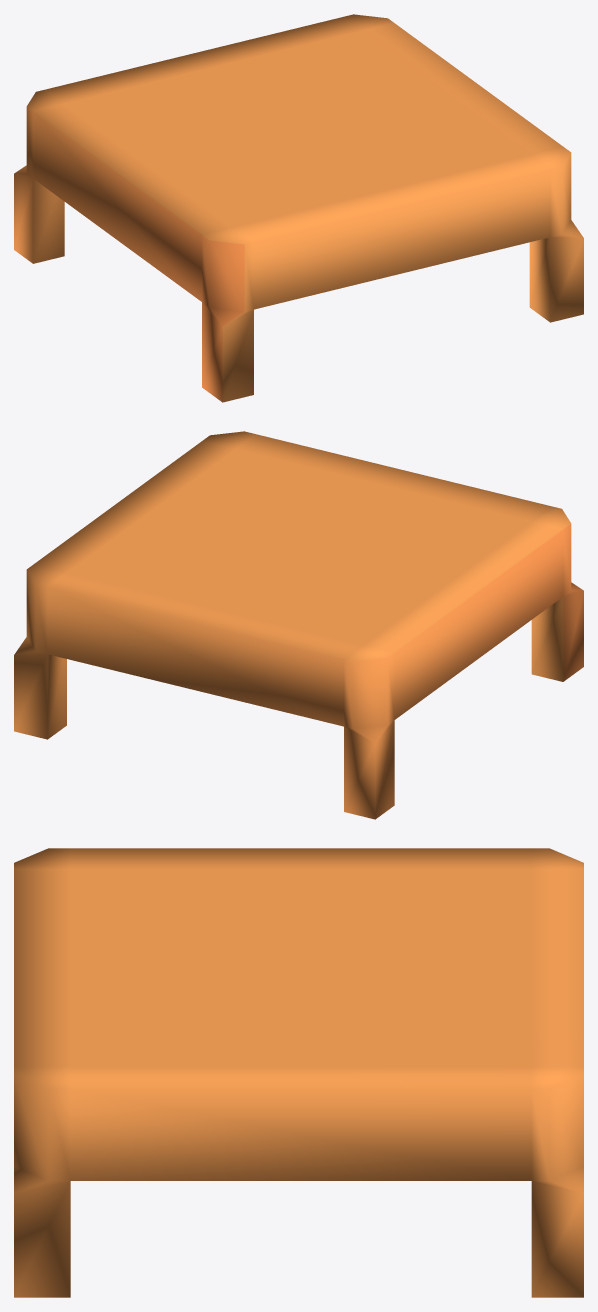
Rendered from Mesinha.fbx.
3 renders of one model, top to bottom at view 1: azimuth 30°, elevation 25°; view 2: azimuth 150°, elevation 25°; view 3: azimuth 270°, elevation 25°, orthographic. The views are drawn at different scales.
Visible parts, largest first — view 1: Mesinha; view 2: Mesinha; view 3: Mesinha.
Boxes of the visible parts, box(x1,y1,x2,y2) form: Mesinha: box(14, 14, 583, 402); Mesinha: box(14, 431, 583, 819); Mesinha: box(14, 848, 583, 1297).
Bounding box in the file's own units: 89.97 × 36.33 × 89.97.
Materials: 1 (1 with a texture image).
